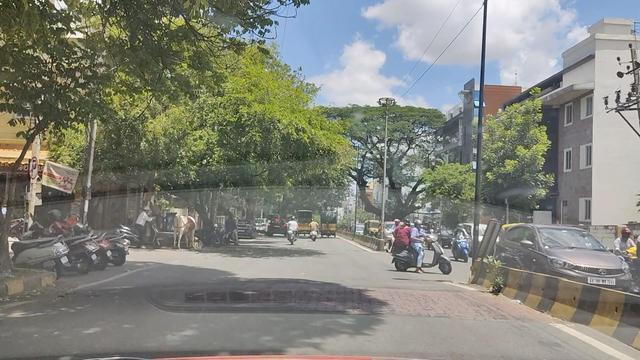LMV: (384, 221, 440, 277)
